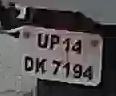1: (61, 36, 70, 53), (63, 61, 71, 77)
4: (73, 37, 83, 54), (83, 65, 93, 81)
7: (52, 60, 62, 77)
9: (72, 63, 83, 81)
D: (21, 55, 34, 75)
K: (34, 57, 48, 75)
P: (49, 33, 61, 50)
U: (37, 31, 49, 50)
